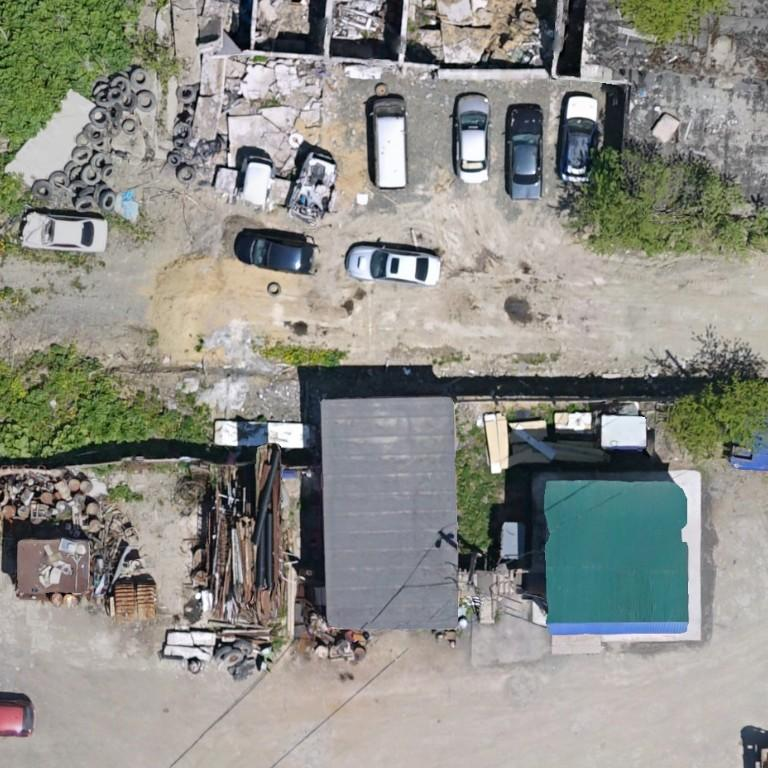hogweed: (76, 379, 179, 449), (0, 369, 81, 427)
